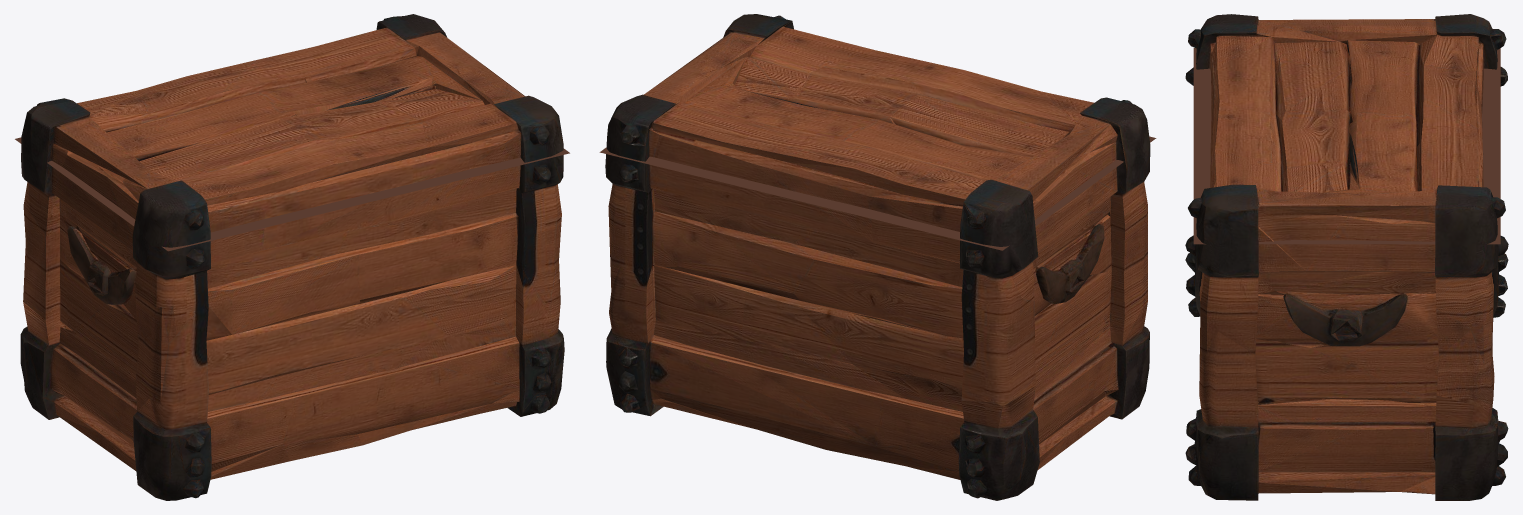
Rendered from crate.glb.
3 renders of one model, left to right at view 1: azimuth 30°, elevation 25°; view 2: azimuth 150°, elevation 25°; view 3: azimuth 270°, elevation 25°, orthographic.
Parts seen in each view (by area): view 1: Frame, Lid; view 2: Frame, Lid; view 3: Frame, Lid.
Boxes of the visible parts, x1,y1,x2,y2 form: Frame: [20, 144, 564, 500]; Lid: [15, 14, 569, 251]; Frame: [605, 145, 1150, 500]; Lid: [599, 14, 1156, 250]; Frame: [1185, 67, 1508, 500]; Lid: [1188, 14, 1506, 246].
Size of the model in its own units: 0.8059 by 0.55 by 0.546.
Materials: 1 (1 with a texture image).
